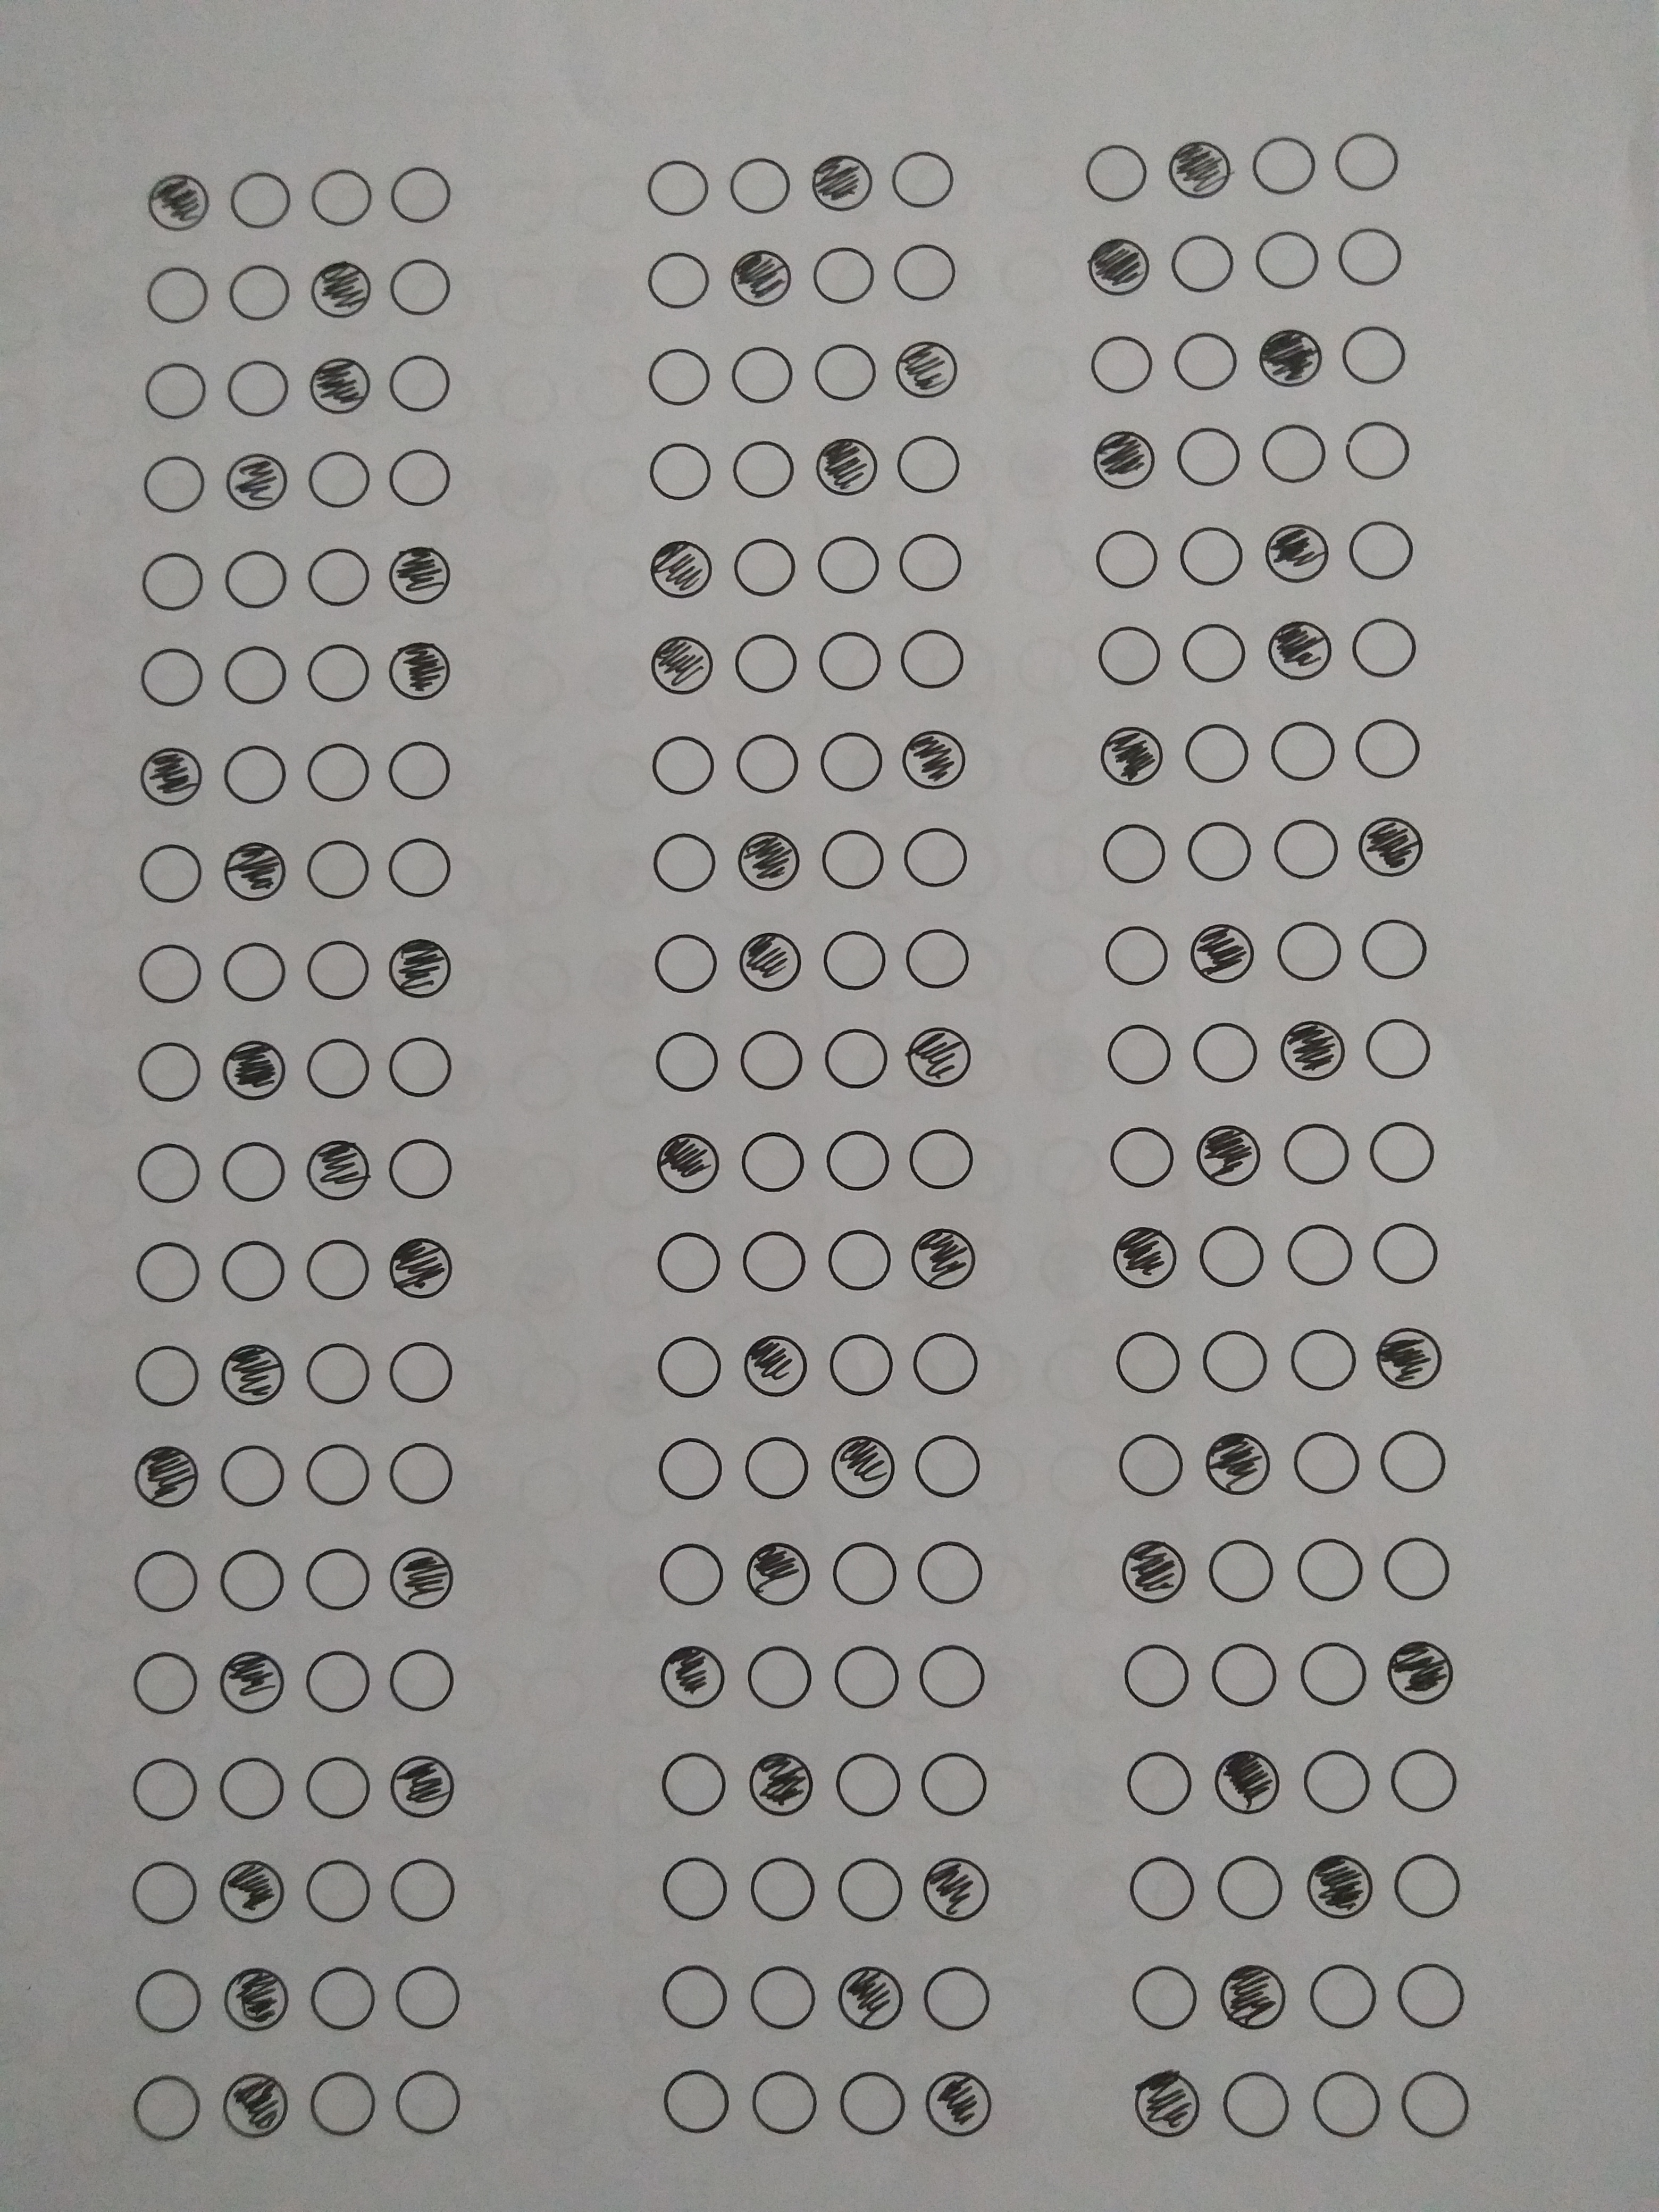not-c: (1398, 2066, 1469, 2135), (1394, 1965, 1467, 2029), (1223, 2069, 1288, 2137), (1314, 2071, 1378, 2139), (1133, 1963, 1197, 2031), (223, 1143, 288, 1204), (307, 1238, 371, 1299), (132, 1348, 197, 1409), (138, 1042, 202, 1103), (307, 939, 371, 1000), (138, 843, 202, 904), (307, 838, 371, 899), (385, 836, 450, 897), (307, 744, 371, 805), (138, 646, 202, 707), (223, 643, 288, 704), (305, 643, 369, 704), (141, 550, 206, 611), (223, 549, 288, 610), (305, 547, 369, 608), (141, 453, 206, 514), (389, 352, 453, 413), (387, 258, 451, 319), (227, 261, 291, 322), (753, 1968, 817, 2029), (924, 1968, 988, 2029), (840, 2073, 904, 2134), (753, 2073, 817, 2134), (666, 2069, 730, 2130), (134, 2076, 199, 2137), (312, 2073, 376, 2134), (396, 2073, 460, 2134), (136, 1972, 200, 2033), (134, 1864, 199, 1925), (390, 1649, 455, 1710), (305, 1651, 369, 1712), (134, 1550, 199, 1611), (742, 1231, 807, 1292), (655, 1334, 720, 1395), (828, 1332, 892, 1393), (913, 1331, 978, 1392), (659, 1543, 723, 1604), (918, 1541, 983, 1602), (835, 1646, 899, 1707), (920, 1646, 985, 1707), (662, 1754, 727, 1815), (662, 1858, 727, 1919), (751, 1862, 816, 1923), (732, 439, 796, 500), (647, 350, 711, 411), (647, 442, 711, 503), (730, 536, 795, 597), (899, 529, 964, 590), (819, 629, 884, 690), (650, 733, 714, 794), (737, 733, 802, 794), (819, 730, 884, 791), (901, 826, 965, 887), (653, 833, 718, 894), (904, 928, 969, 989), (653, 1028, 718, 1089), (741, 1029, 805, 1090), (824, 1028, 889, 1089), (908, 1129, 972, 1190), (892, 148, 957, 209), (728, 157, 793, 218), (814, 343, 878, 404), (1392, 1750, 1457, 1811), (1305, 1750, 1370, 1811), (1298, 1540, 1363, 1601), (1384, 1536, 1448, 1597), (1297, 1432, 1361, 1493), (1115, 1332, 1180, 1393), (1288, 1223, 1352, 1284), (1108, 1127, 1173, 1188), (1284, 1123, 1349, 1184), (1370, 1122, 1434, 1183), (1108, 1022, 1173, 1083), (1192, 1021, 1256, 1082), (1103, 923, 1168, 984), (1363, 920, 1427, 981), (1100, 824, 1164, 885), (1276, 819, 1340, 880), (1269, 718, 1333, 779), (1098, 625, 1162, 686), (1182, 622, 1246, 683), (1176, 428, 1241, 489), (1344, 423, 1408, 484), (1089, 334, 1154, 395), (1333, 131, 1398, 192), (1129, 1860, 1194, 1921), (1218, 1857, 1283, 1918), (1394, 1857, 1459, 1918), (136, 1242, 199, 1303), (387, 448, 450, 509), (392, 1858, 455, 1919), (896, 435, 958, 496), (826, 1129, 889, 1190), (1204, 1332, 1267, 1393), (1190, 820, 1253, 881), (228, 171, 293, 230), (1126, 1754, 1190, 1813), (389, 1038, 453, 1097), (387, 1139, 451, 1198), (136, 1143, 200, 1202), (390, 1343, 455, 1402), (305, 1343, 369, 1402), (390, 1444, 455, 1503), (218, 1447, 282, 1507), (387, 164, 451, 223), (308, 169, 373, 228), (305, 1038, 369, 1097), (139, 942, 204, 1001), (223, 942, 288, 1001), (221, 744, 286, 803), (387, 742, 451, 801), (307, 451, 371, 510), (143, 359, 207, 418), (228, 357, 293, 416), (394, 1968, 458, 2027), (305, 1862, 369, 1921), (132, 1759, 197, 1818), (218, 1759, 282, 1818), (307, 1757, 371, 1817), (134, 1653, 199, 1712), (307, 1548, 371, 1608), (221, 1550, 286, 1609), (657, 1230, 721, 1289), (826, 1231, 890, 1291), (659, 1439, 723, 1498), (742, 1439, 807, 1498), (918, 1437, 983, 1496), (833, 1543, 897, 1602), (748, 1644, 812, 1703), (836, 1756, 901, 1815), (924, 1754, 988, 1813), (836, 1860, 901, 1919), (666, 1968, 730, 2027), (730, 348, 795, 408), (732, 632, 796, 691), (899, 629, 964, 688), (821, 831, 885, 890), (653, 934, 718, 993), (823, 932, 887, 991), (739, 1130, 803, 1190), (645, 158, 709, 218), (647, 253, 711, 312), (892, 244, 957, 303), (810, 246, 875, 305), (1213, 1644, 1277, 1703), (1124, 1648, 1188, 1707), (1302, 1646, 1366, 1705), (1208, 1543, 1272, 1602), (1119, 1435, 1183, 1494), (1380, 1433, 1445, 1493), (1291, 1329, 1356, 1388), (1201, 1226, 1265, 1285), (1373, 1223, 1438, 1282), (1366, 1019, 1431, 1078), (1279, 921, 1344, 981), (1185, 725, 1249, 784), (1354, 718, 1419, 777), (1093, 529, 1157, 589), (1178, 529, 1243, 589), (1349, 519, 1413, 578), (1262, 425, 1326, 484), (1173, 333, 1237, 392), (1337, 226, 1401, 286), (1255, 230, 1319, 289), (1169, 235, 1234, 294), (1251, 136, 1316, 195), (1082, 143, 1147, 202), (1310, 1966, 1375, 2026), (223, 1242, 286, 1301), (305, 1446, 368, 1505), (148, 265, 211, 324), (312, 1968, 375, 2027), (814, 536, 877, 596), (1354, 618, 1417, 678), (1342, 324, 1405, 383)
taken-c: (1354, 812, 1427, 881), (1373, 1325, 1448, 1393), (922, 1855, 993, 1925), (1131, 2067, 1202, 2137), (1384, 1635, 1453, 1707), (1204, 1426, 1274, 1498), (659, 1641, 728, 1710), (748, 1750, 817, 1820), (924, 2069, 995, 2137), (838, 1963, 908, 2031), (218, 1648, 288, 1716), (389, 1545, 458, 1613), (1218, 1961, 1286, 2031), (1213, 1747, 1283, 1815), (385, 934, 453, 1001), (910, 1223, 978, 1291), (829, 1432, 897, 1500), (1303, 1853, 1371, 1921), (1194, 1122, 1262, 1190), (1277, 1015, 1345, 1083), (735, 827, 805, 894), (220, 2071, 289, 2137), (305, 1137, 373, 1204), (655, 1129, 721, 1197), (218, 1858, 286, 1925), (739, 930, 805, 996), (1260, 324, 1326, 390), (136, 1442, 200, 1510), (1119, 1538, 1187, 1602), (1112, 1224, 1180, 1289), (1263, 521, 1331, 585), (650, 634, 714, 700), (746, 1541, 812, 1606), (223, 1968, 289, 2033), (223, 836, 286, 904), (387, 1237, 455, 1299), (1187, 921, 1255, 984), (1168, 138, 1236, 200), (221, 1341, 286, 1406), (383, 637, 450, 700), (223, 1036, 286, 1103), (901, 728, 967, 791), (648, 536, 714, 599), (814, 434, 880, 496), (742, 1332, 809, 1395), (389, 1754, 455, 1817), (1093, 428, 1159, 491), (1267, 620, 1335, 681), (308, 258, 371, 322), (390, 542, 453, 606), (894, 338, 958, 401), (139, 745, 202, 808), (310, 355, 375, 416), (906, 1026, 971, 1087), (812, 152, 877, 212), (1100, 726, 1164, 787), (1087, 235, 1152, 296), (145, 172, 211, 232), (728, 249, 795, 308), (225, 451, 288, 510)
